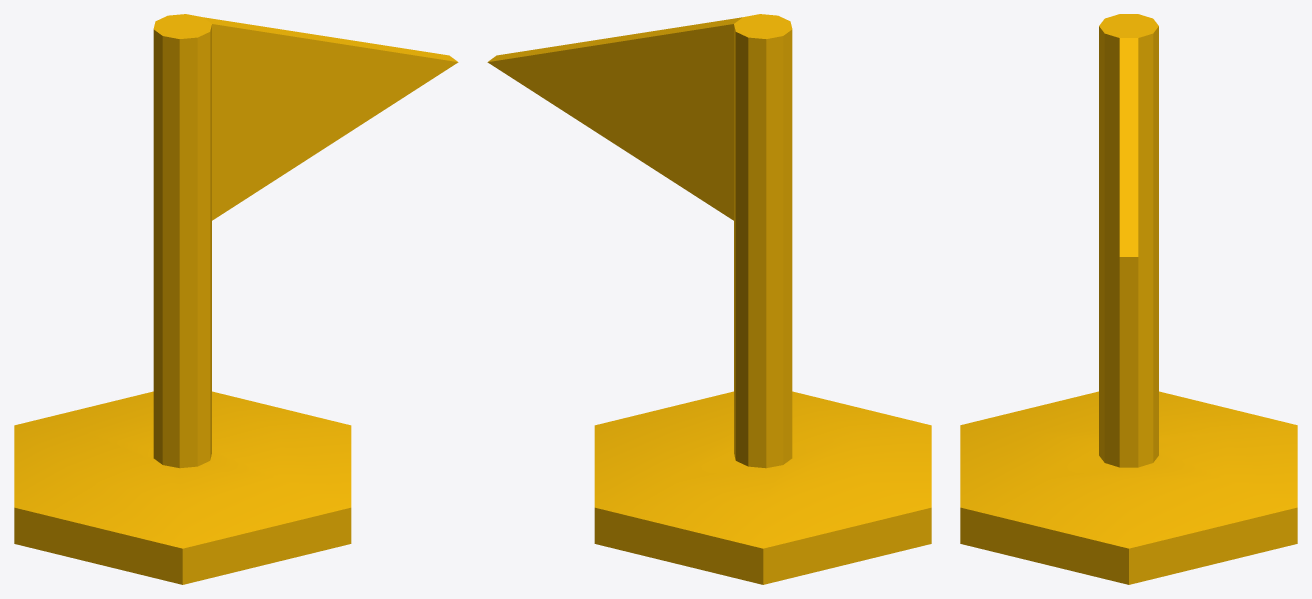
Rendered from Boardgame_Flag_Token_Yellow_01.fbx.
The picture shows the model from 3 angles, left to right: view 1: azimuth 30°, elevation 25°; view 2: azimuth 150°, elevation 25°; view 3: azimuth 270°, elevation 25°; orthographic projection.
Parts seen in each view (by area): view 1: Model; view 2: Model; view 3: Model.
Boxes of the visible parts, x1,y1,x2,y2 form: Model: (14,14,458,584); Model: (487,14,931,584); Model: (960,14,1297,584).
Bounding box in the file's own units: 244 × 253 × 162.
